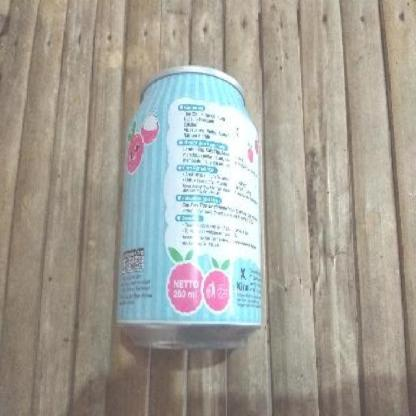alumunium_can: (117, 66, 268, 356)
